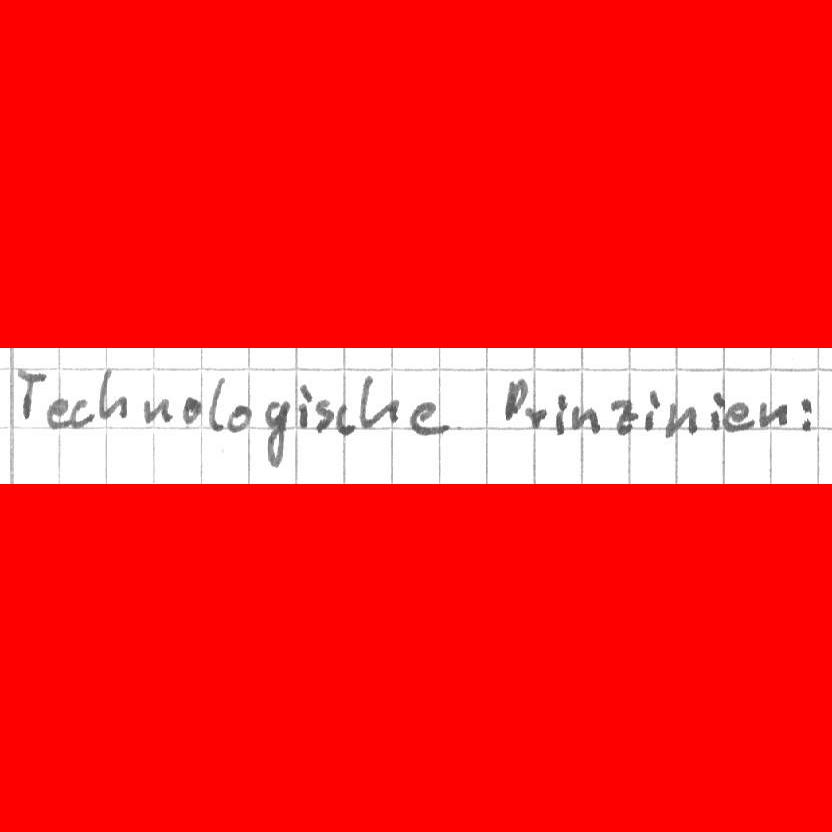Char: (358, 372, 400, 431), (262, 396, 292, 469), (95, 366, 131, 421), (407, 396, 453, 437), (15, 365, 46, 423), (501, 375, 528, 426), (205, 372, 227, 433), (664, 401, 700, 438), (606, 397, 638, 435), (142, 392, 176, 424), (723, 400, 755, 433), (758, 399, 792, 429), (569, 403, 604, 431), (296, 382, 315, 432), (641, 388, 662, 432), (44, 395, 70, 430), (225, 402, 254, 433), (69, 394, 94, 428), (334, 400, 356, 438), (315, 395, 335, 435), (179, 392, 202, 426), (552, 392, 569, 436), (709, 390, 726, 431), (797, 394, 814, 435), (524, 402, 546, 431)
